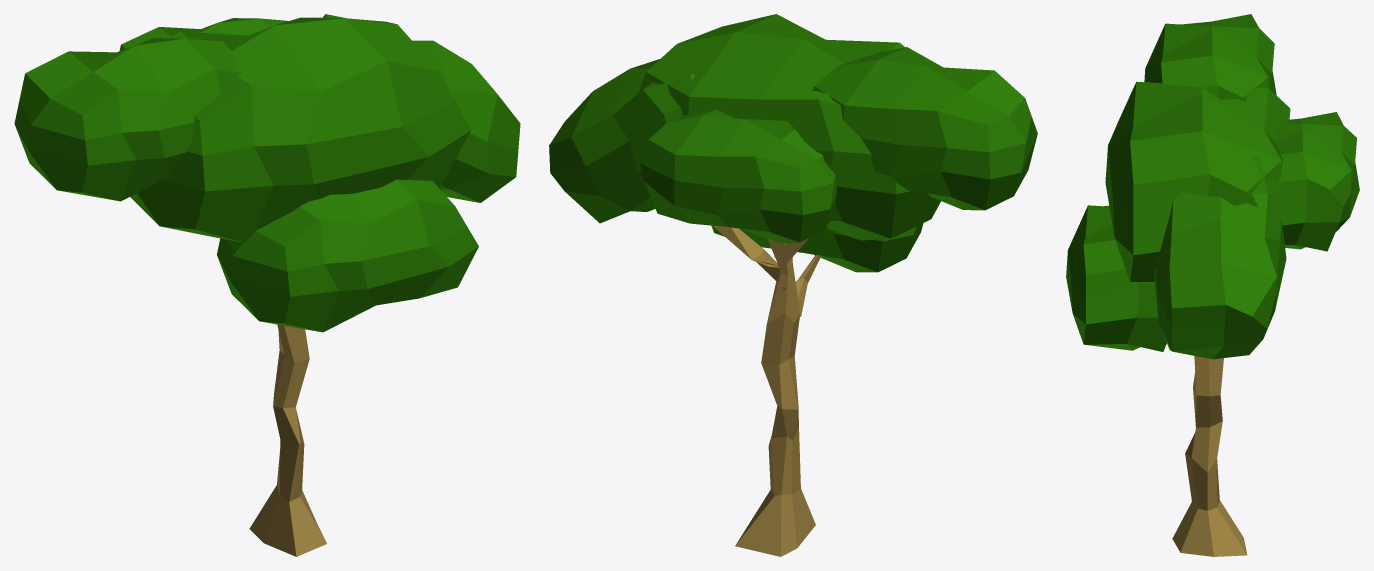
Rendered from normal tree 2.fbx.
3 renders of one model, left to right at view 1: azimuth 30°, elevation 25°; view 2: azimuth 150°, elevation 25°; view 3: azimuth 270°, elevation 25°, orthographic. The views are drawn at different scales.
Parts seen in each view (by area): view 1: Cube.013; view 2: Cube.013; view 3: Cube.013.
Boxes of the visible parts, x1=… form: Cube.013: x1=14, y1=14, x2=520, y2=556; Cube.013: x1=549, y1=14, x2=1037, y2=556; Cube.013: x1=1066, y1=14, x2=1359, y2=556.
Bounding box in the file's own units: 956 × 1026 × 601.
